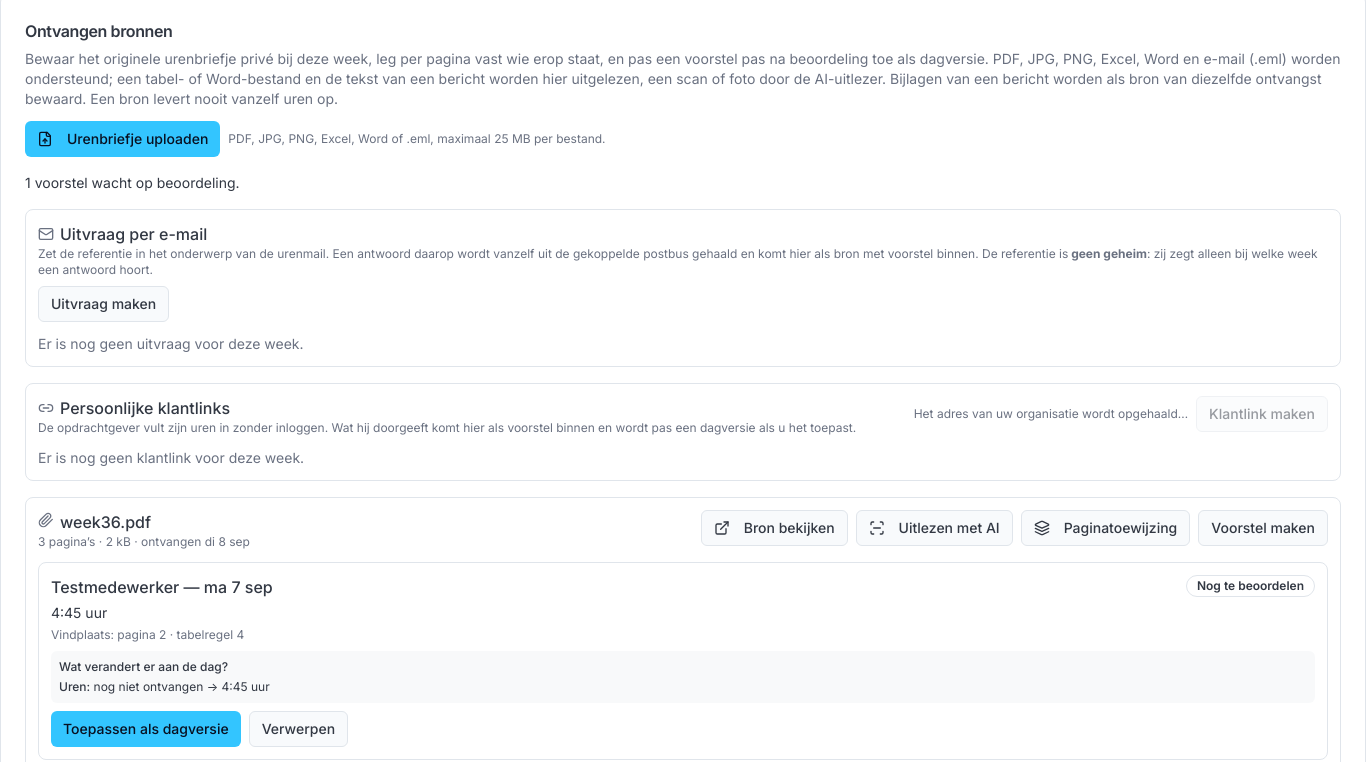
internal hours intake › records why a proposal was discarded
Click the button "Verwerpen" at x=298, y=729, box [249, 711, 348, 747]
(page scrolled)
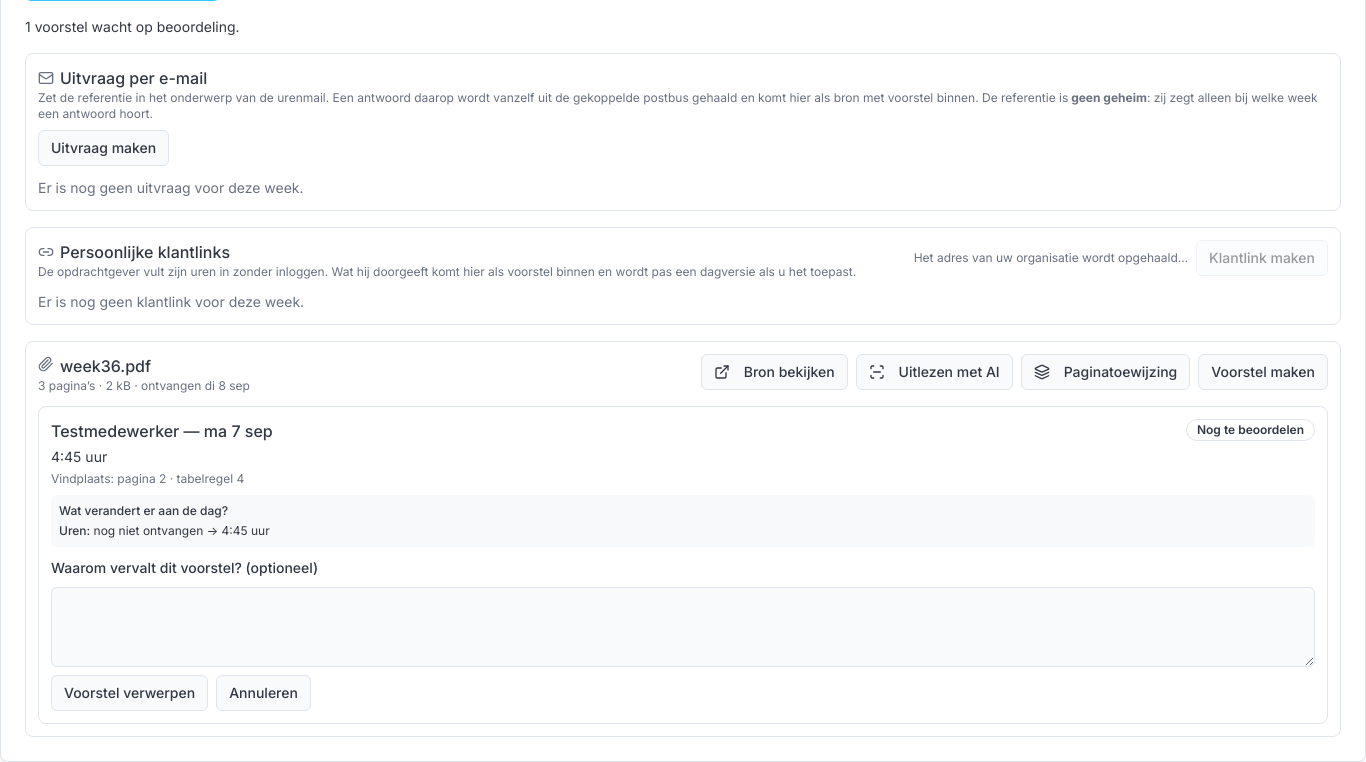
Type "Onleesbare pauzeregel" into the text box labelled "Waarom vervalt dit voorstel? (optioneel)" at x=683, y=627, box [51, 587, 1315, 667]
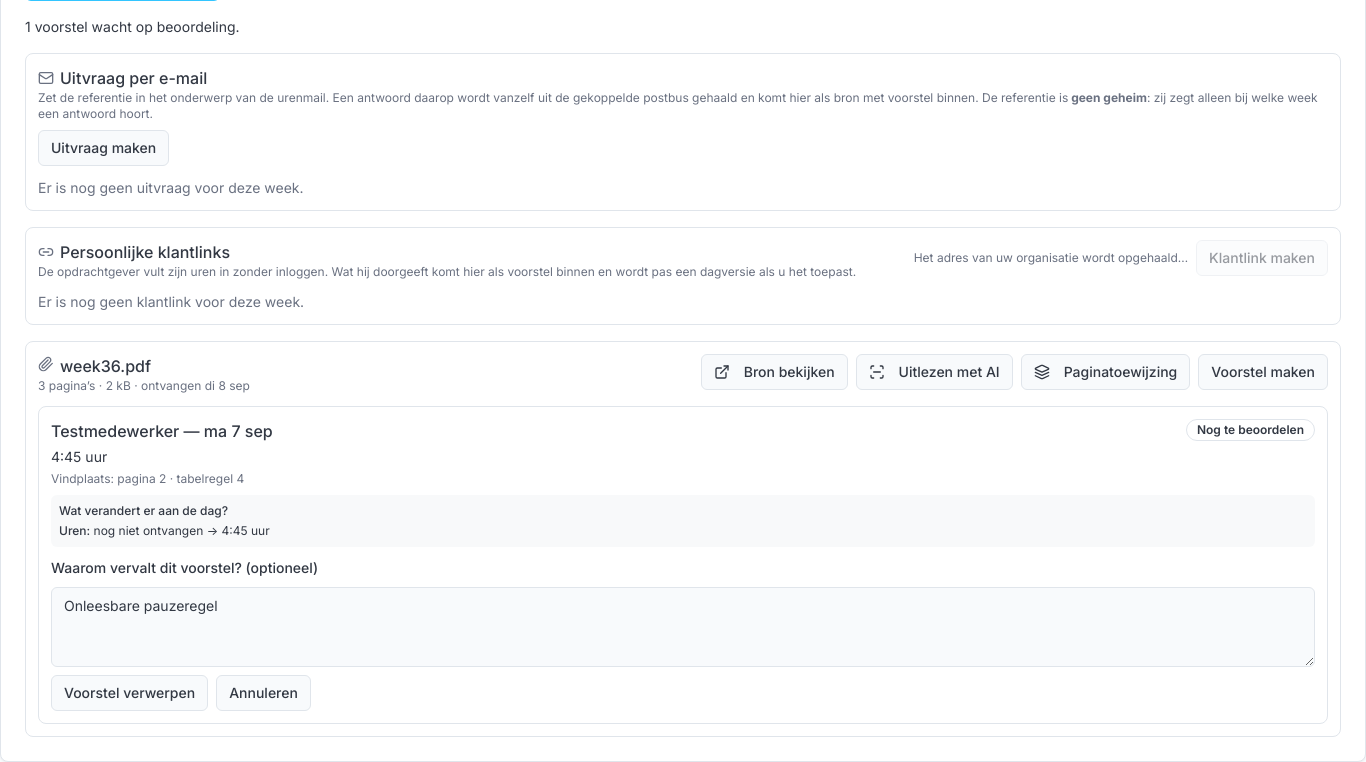
Click the button "Voorstel verwerpen" at x=130, y=693, box [51, 675, 208, 711]
(page scrolled)
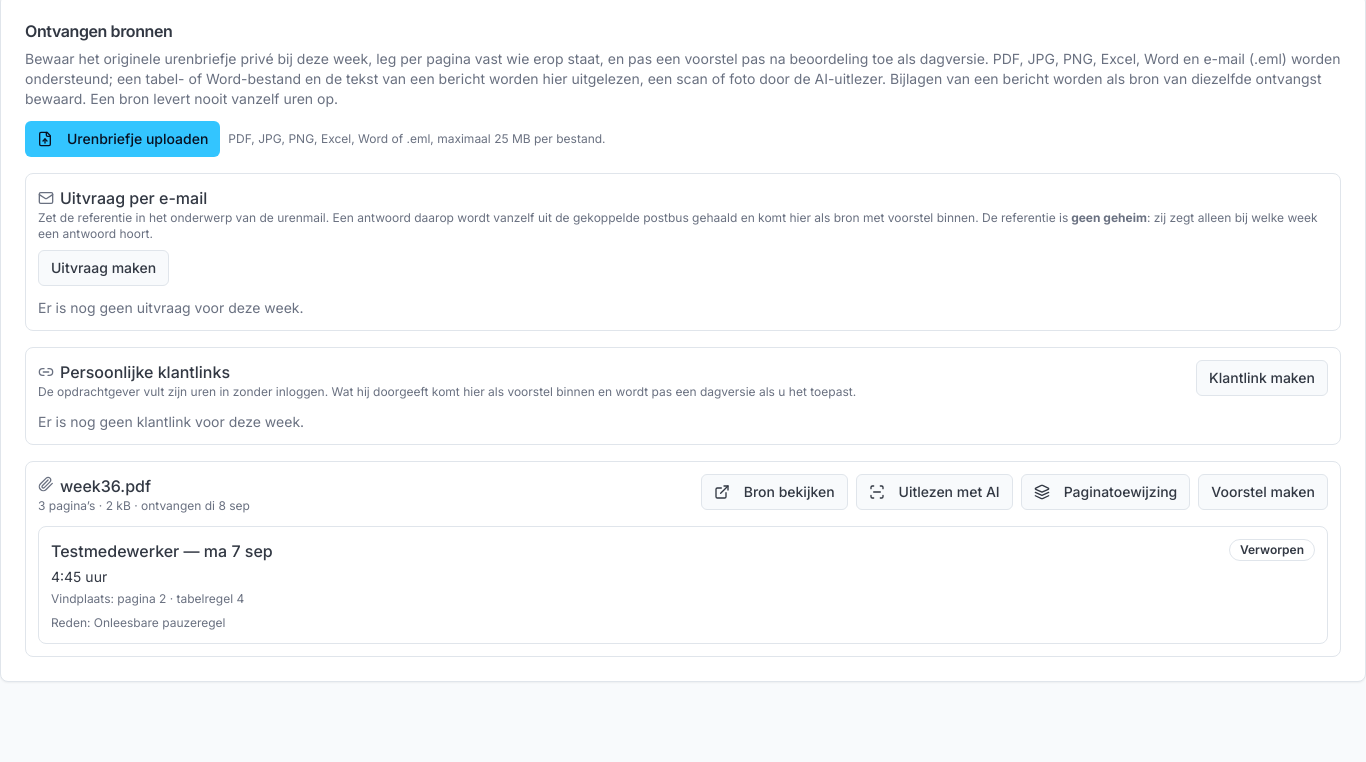
Expected: the text "Verworpen" is shown, [1229, 539, 1315, 561]
Expected: the text "Reden: Onleesbare pauzeregel" is shown, [51, 615, 226, 630]
